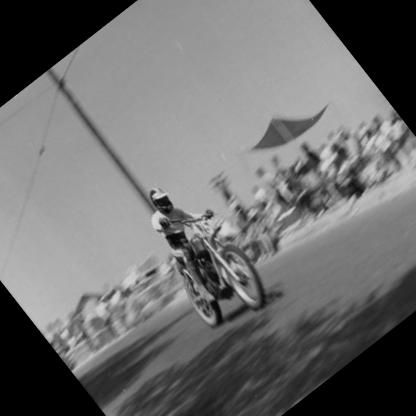moto: (157, 213, 284, 340)
